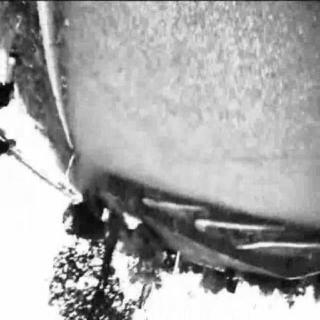other: (90, 177, 238, 274)
